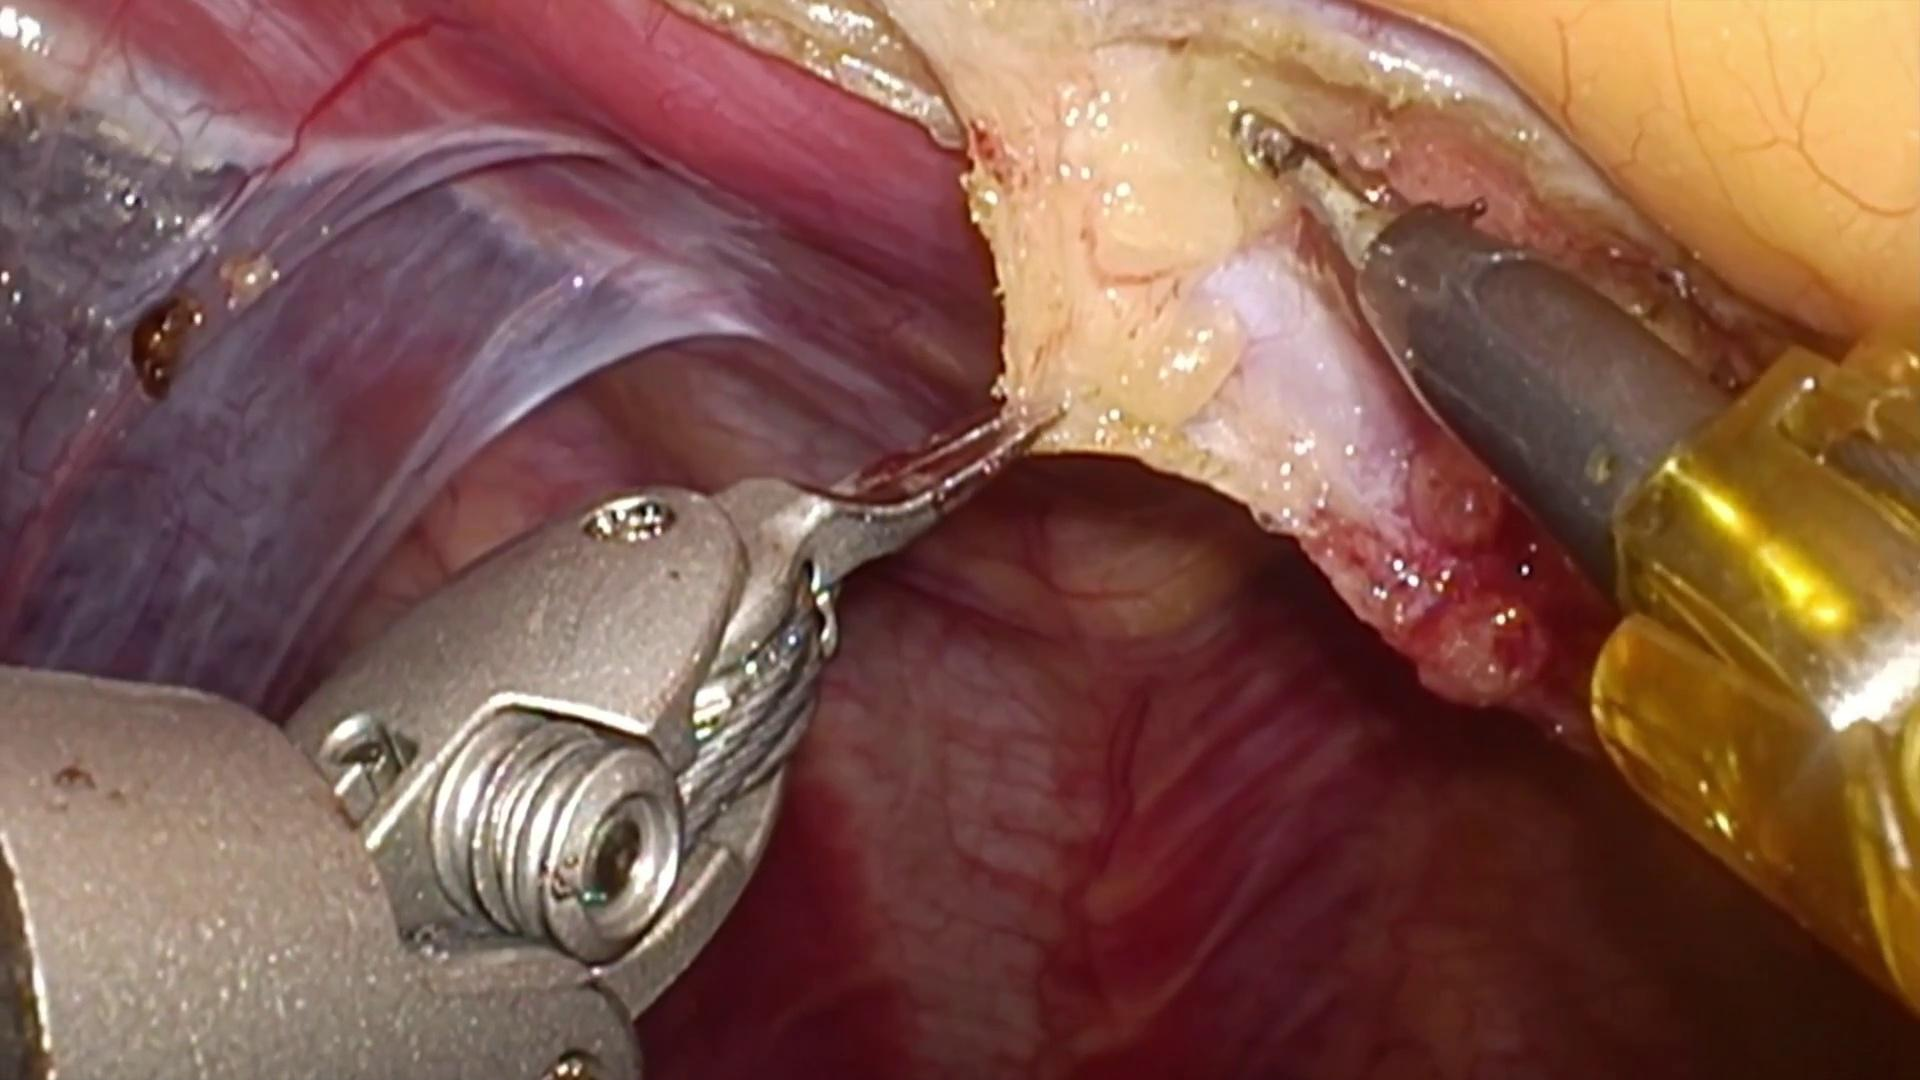Cautery_Spatula: (1230, 104, 1749, 611)
Debakey: (724, 324, 1063, 618)
